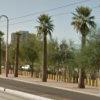Palm tree: (31, 10, 94, 80)
